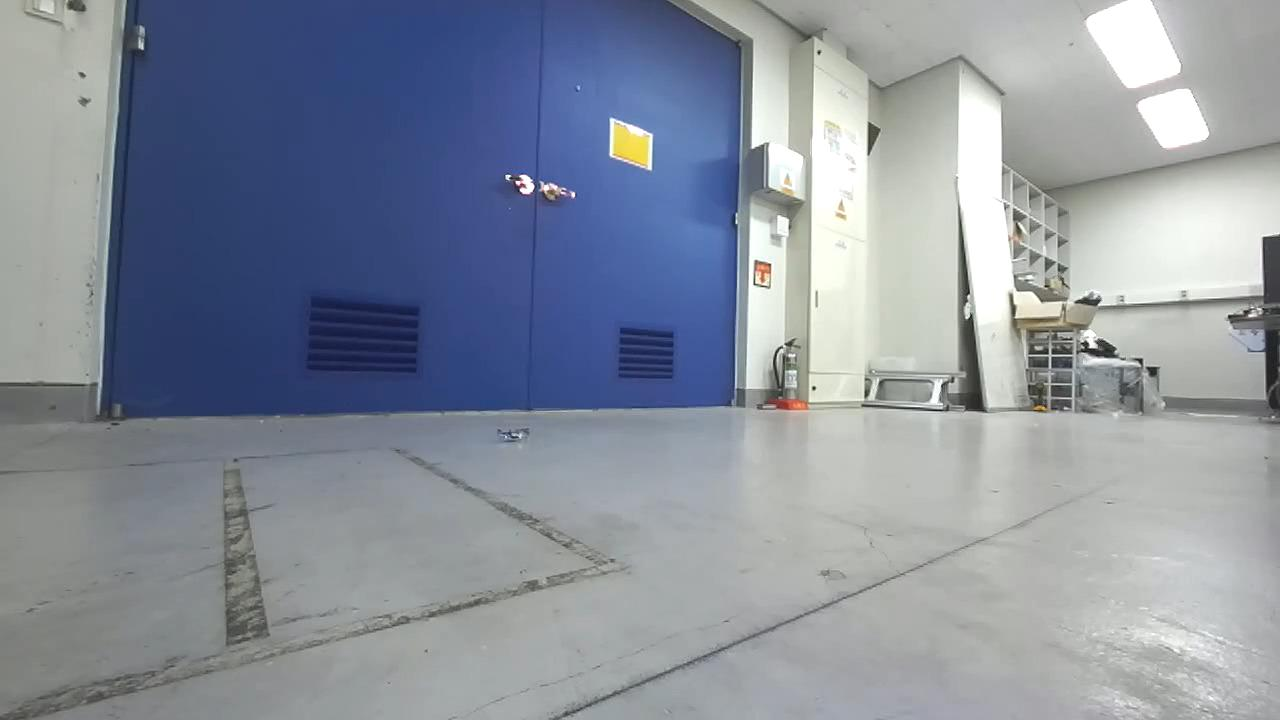crazyflie: (489, 422, 540, 448)
